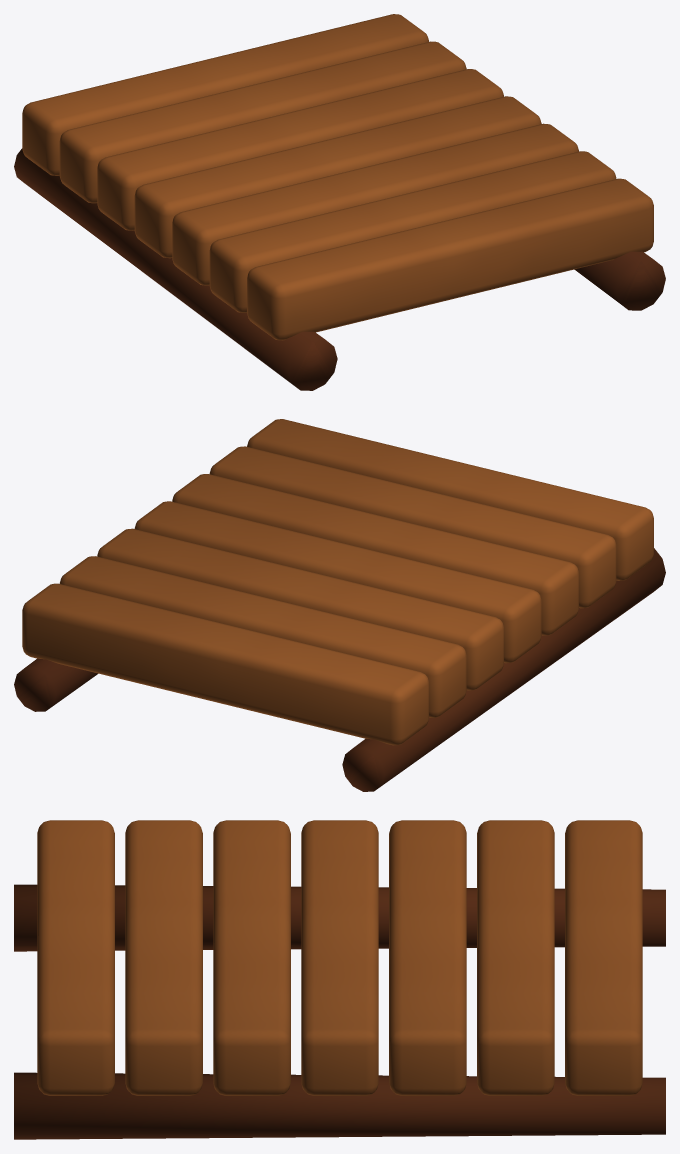
The model's file is Bridge.fbx.
3 renders of one model, top to bottom at view 1: azimuth 30°, elevation 25°; view 2: azimuth 150°, elevation 25°; view 3: azimuth 270°, elevation 25°, orthographic. The views are drawn at different scales.
Visible parts, largest first — view 1: Bridge; view 2: Bridge; view 3: Bridge.
Boxes of the visible parts, bbox=[...] form: Bridge: bbox=[14, 14, 665, 390]; Bridge: bbox=[14, 419, 665, 791]; Bridge: bbox=[14, 820, 665, 1139].
Size of the model in its own units: 100 by 25 by 126.
1 material, 1 textured.
